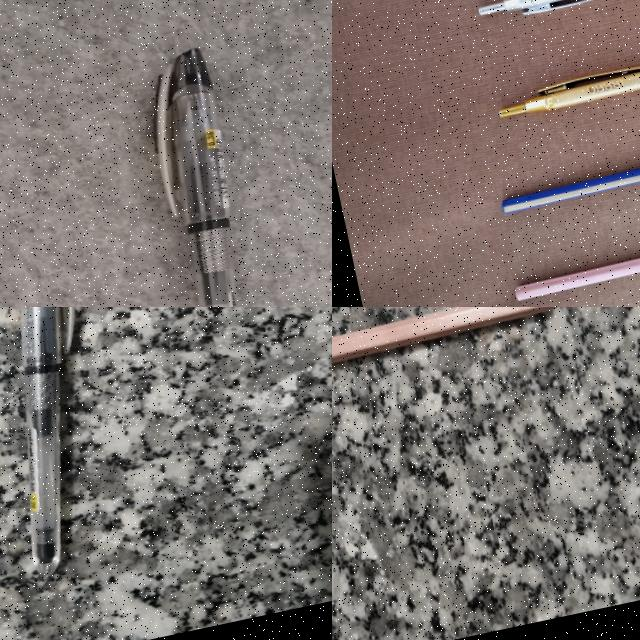pen: (155, 49, 236, 306), (21, 307, 74, 576)
pencil: (506, 188, 640, 300), (500, 113, 640, 210), (332, 307, 554, 363)
signature pen: (497, 28, 640, 119)
